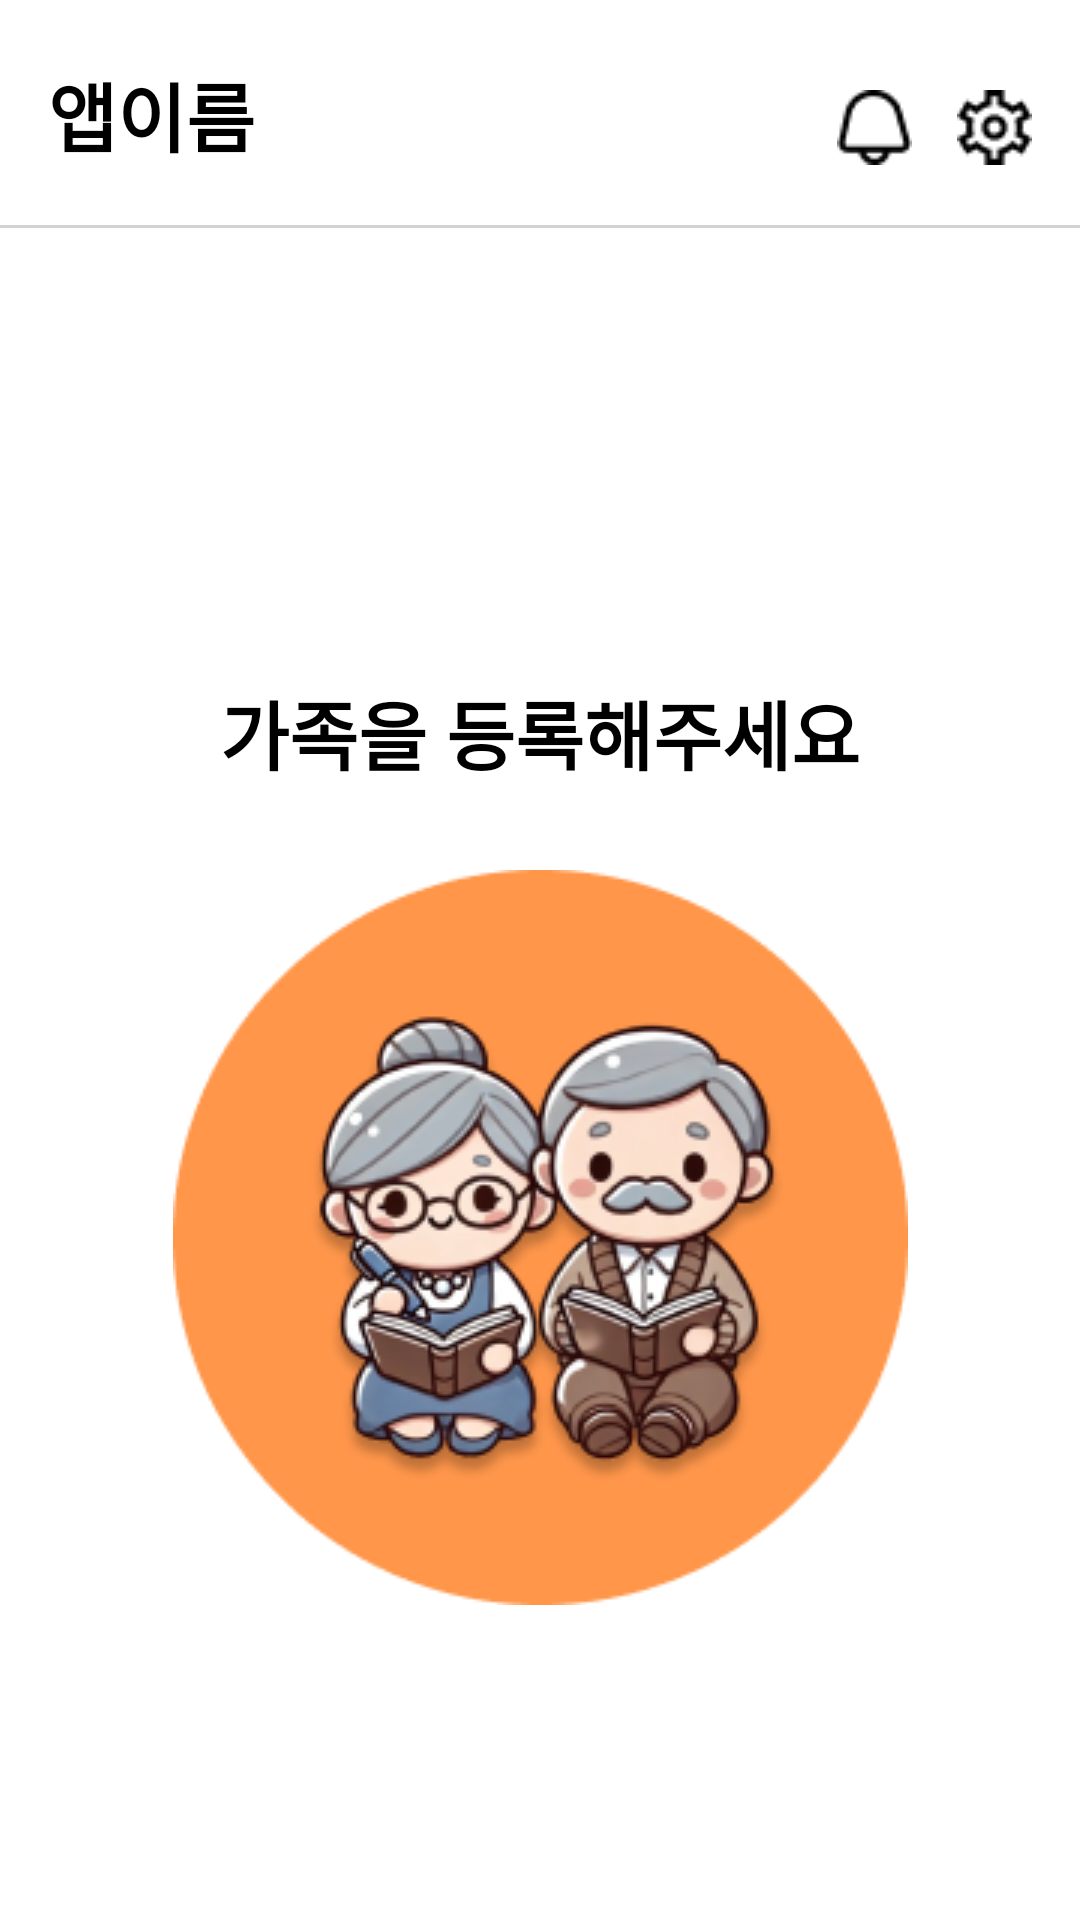

Where icons sit on this 1080w x 1920h app screen, as (x1, y1, x2, y2):
bell: (837, 90, 912, 165)
setting: (957, 90, 1032, 165)
